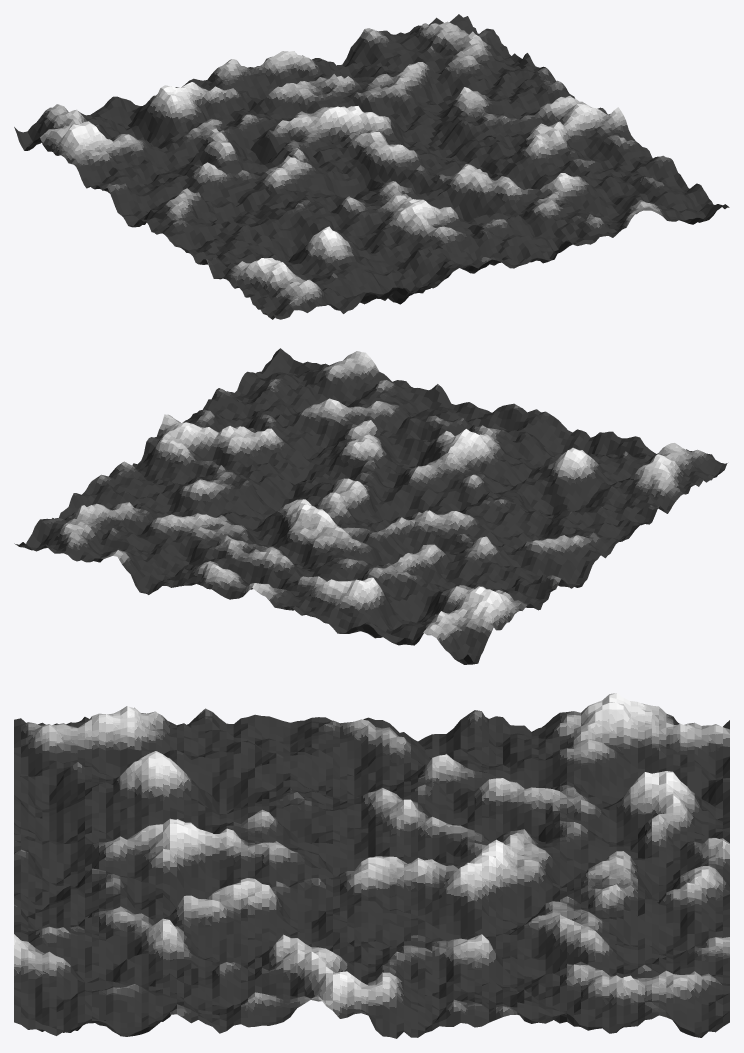
File: ground.glb
The picture shows the model from 3 angles, top to bottom: view 1: azimuth 30°, elevation 25°; view 2: azimuth 150°, elevation 25°; view 3: azimuth 270°, elevation 25°; orthographic projection. The views are drawn at different scales.
Visible parts, largest first — view 1: Plane; view 2: Plane; view 3: Plane.
Boxes of the visible parts, left/top/right/bottom form: Plane: left=14, top=14, right=729, bottom=319; Plane: left=14, top=348, right=727, bottom=664; Plane: left=14, top=693, right=729, bottom=1038.
Size of the model in its own units: 2 by 0.2326 by 2.
1 material, 1 textured.
